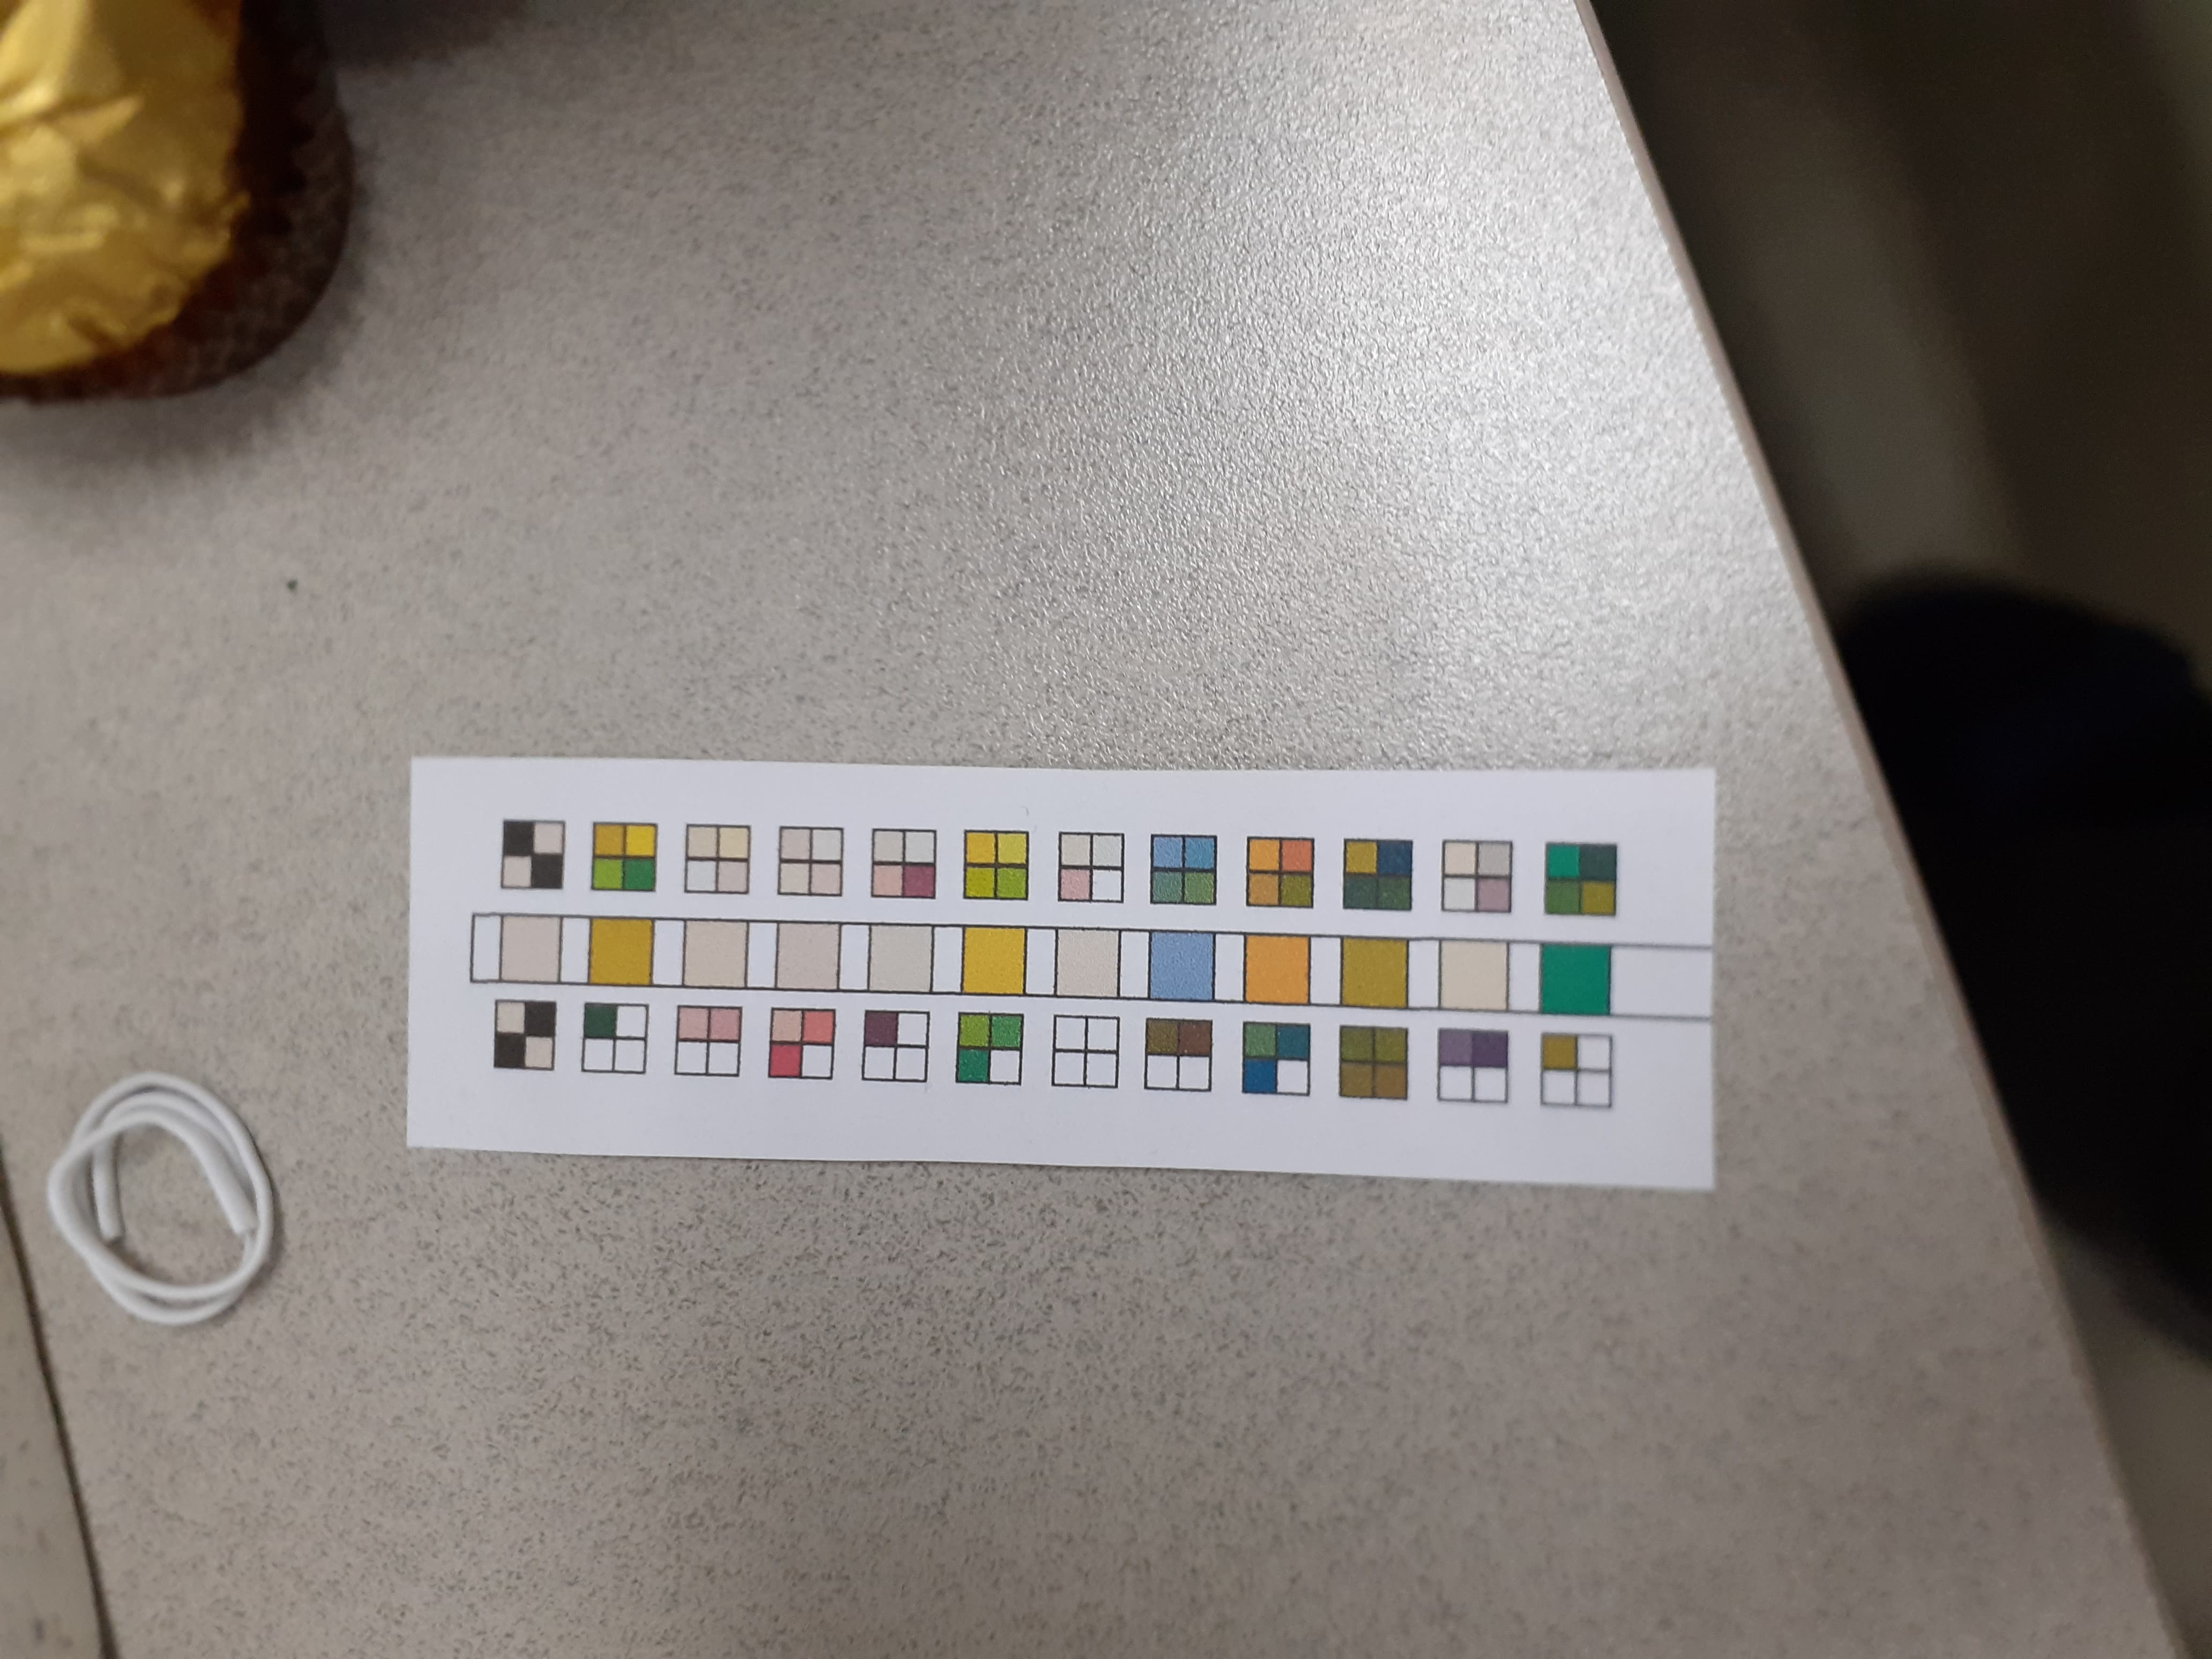tester: (413, 753, 1714, 1195)
